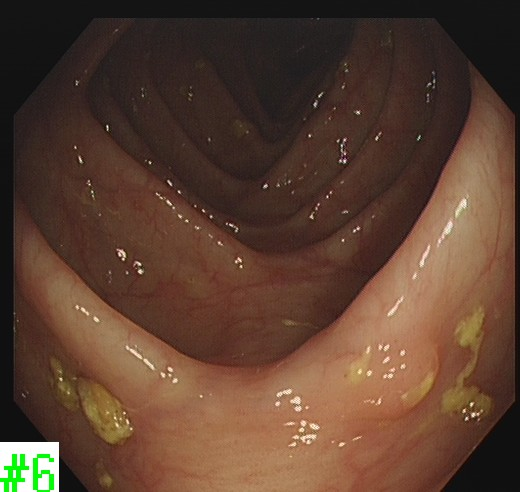adenoma: (351, 333, 441, 421)
